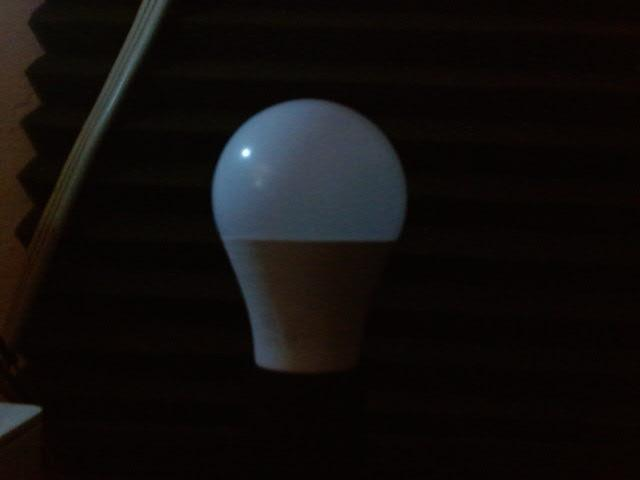Fan: (199, 95, 414, 291)
